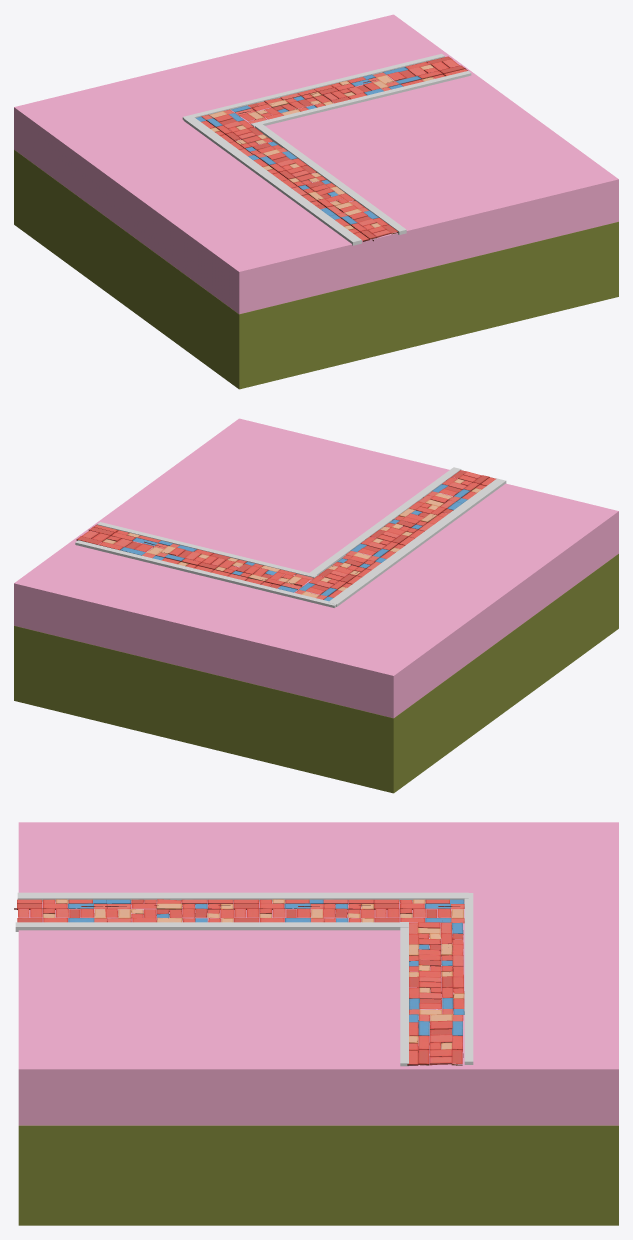
File: floor.glb
The picture shows the model from 3 angles, top to bottom: view 1: azimuth 30°, elevation 25°; view 2: azimuth 150°, elevation 25°; view 3: azimuth 270°, elevation 25°; orthographic projection. The views are drawn at different scales.
Visible parts, largest first — view 1: Cube, Cube.001, defaultMaterial.4622, Cube.005; view 2: Cube, Cube.001, defaultMaterial.4622, Cube.005; view 3: Cube, Cube.001, defaultMaterial.4622, Cube.005.
Boxes of the visible parts, box(x1,y1,x2,y2) form: Cube: box(14, 14, 618, 314); Cube.001: box(14, 150, 618, 389); defaultMaterial.4622: box(196, 56, 467, 241); Cube.005: box(182, 53, 471, 245); Cube: box(14, 418, 618, 718); Cube.001: box(14, 554, 618, 793); defaultMaterial.4622: box(76, 470, 496, 601); Cube.005: box(75, 467, 506, 607); Cube: box(18, 822, 618, 1125); Cube.001: box(18, 1125, 618, 1225); defaultMaterial.4622: box(14, 899, 464, 1065); Cube.005: box(15, 892, 473, 1066).
Size of the model in its own units: 705 by 265 by 730.
4 materials, 2 textured.
